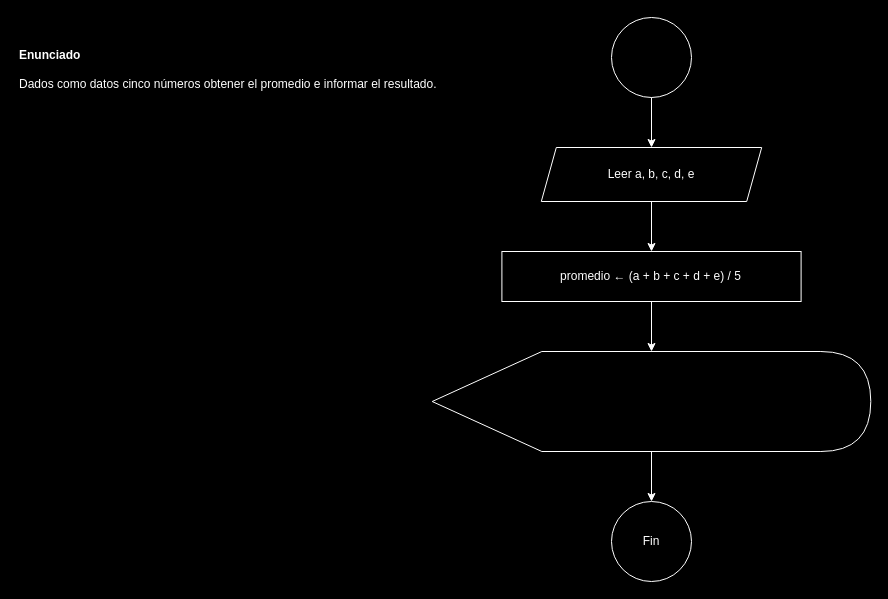
Image size: 888x599. Some labels were removed from this diagram. Here are the shapes that lost their labels. From the top down, the centre of each, then its label:
[651,57]: Inicio
[651,401]: Escribir "El promedio es: ", promedio
